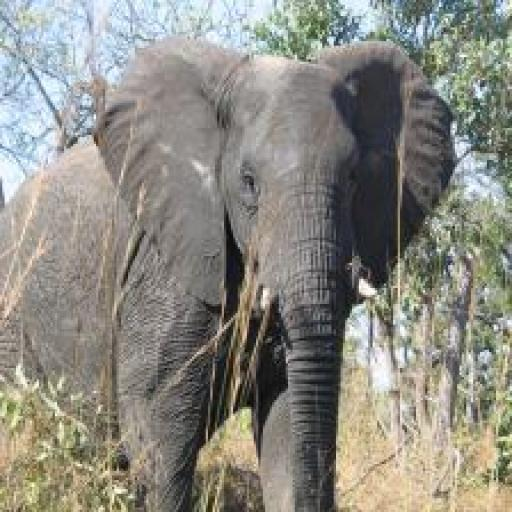Elephant: (2, 41, 457, 512)
